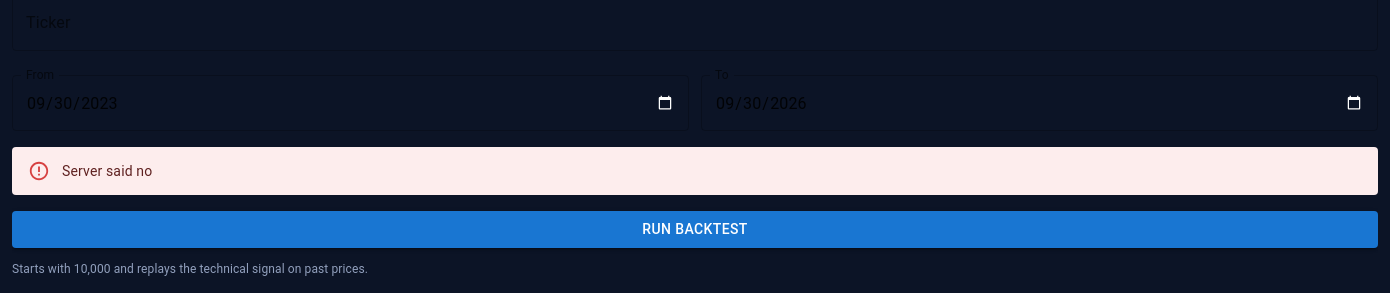
RunForm › shows the local validation message over a server error
Step 1. Click the button "Run backtest" → [695, 229], box [12, 211, 1378, 248]
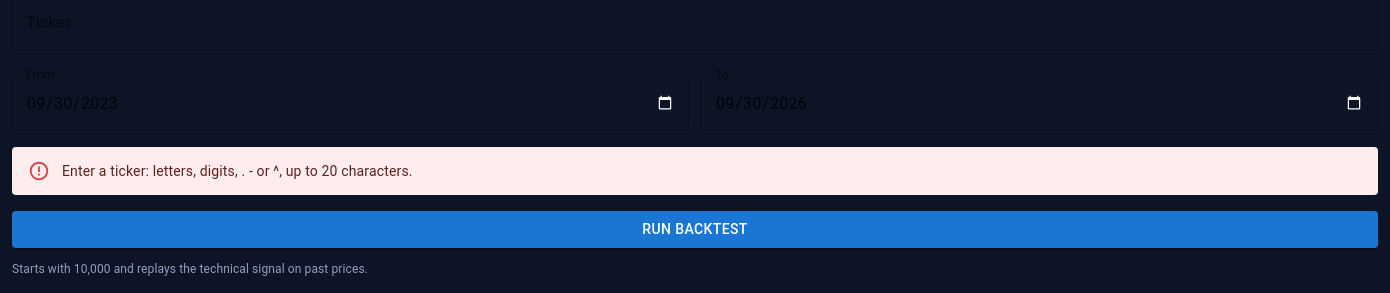
Check: the text "Enter a ticker" is shown, box [62, 163, 413, 179]
Check: the text "Server said no" is gone
